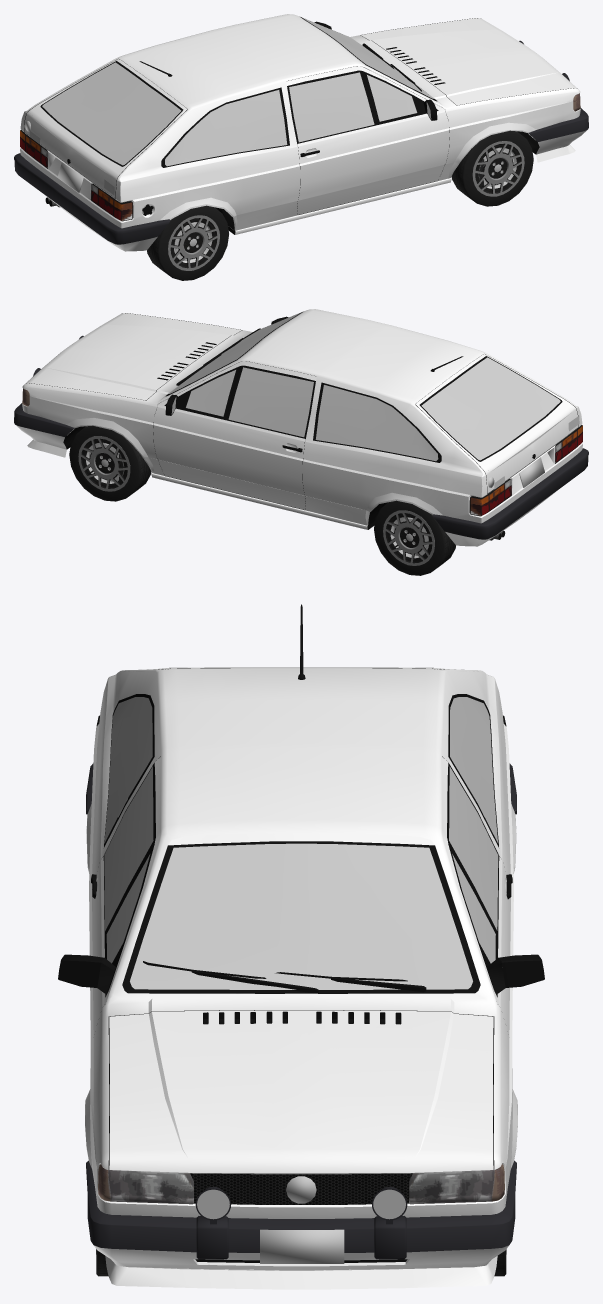
Rendered from VollRTx.dae.
The picture shows the model from 3 angles, top to bottom: view 1: azimuth 30°, elevation 25°; view 2: azimuth 150°, elevation 25°; view 3: azimuth 270°, elevation 25°; orthographic projection. The views are drawn at different scales.
Visible parts, largest first — view 1: chassis_VollRtx_Cima, hood_VollRtx, door_R_VollRtx, ad_Windows_root_VollRtx, ad_windows_chassis_VollRtx, ad_windows_R_VollRtx, P_root_VollRtx, chassis_VollRtx_Baixo, bumper_rear_VollRtx, TIRE_VollRtx_FR, RIM_VollRtx_RR, chassis_VollRtx (+9 smaller); view 2: chassis_VollRtx_Cima, hood_VollRtx, door_L_VollRtx, ad_Windows_root_VollRtx, ad_windows_chassis_VollRtx, ad_windows_L_VollRtx, P_root_VollRtx, chassis_VollRtx_Baixo, bumper_rear_VollRtx, TIRE_VollRtx_FL, RIM_VollRtx_RL, RIM_VollRtx_FL (+9 smaller); view 3: chassis_VollRtx_Cima, hood_VollRtx, ad_windows_chassis_VollRtx, chassis_VollRtx, bumper_front_VollRtx, Extra_bumper, chassis_VollRtx_Baixo, ad_windows_R_VollRtx, ad_windows_L_VollRtx, V_Farol_L_VollRtx, V_Farol_R_VollRtx, licence_front_VollRtx (+9 smaller).
Part boxes in pixels (<box>): chassis_VollRtx_Cima: <box>20,14,580,228</box>; hood_VollRtx: <box>361,18,578,105</box>; door_R_VollRtx: <box>286,66,449,200</box>; ad_Windows_root_VollRtx: <box>42,62,181,165</box>; ad_windows_chassis_VollRtx: <box>165,18,434,166</box>; ad_windows_R_VollRtx: <box>289,72,417,142</box>; P_root_VollRtx: <box>24,59,187,198</box>; chassis_VollRtx_Baixo: <box>37,130,586,251</box>; bumper_rear_VollRtx: <box>14,153,170,244</box>; TIRE_VollRtx_FR: <box>451,130,533,206</box>; RIM_VollRtx_RR: <box>168,215,219,270</box>; chassis_VollRtx: <box>20,17,577,234</box>; chassis_VollRtx_Cima: <box>22,309,582,523</box>; hood_VollRtx: <box>24,313,241,400</box>; door_L_VollRtx: <box>153,361,316,495</box>; ad_Windows_root_VollRtx: <box>421,357,560,460</box>; ad_windows_chassis_VollRtx: <box>168,313,438,461</box>; ad_windows_L_VollRtx: <box>186,367,313,437</box>; P_root_VollRtx: <box>415,354,578,493</box>; chassis_VollRtx_Baixo: <box>16,425,566,546</box>; bumper_rear_VollRtx: <box>432,448,588,539</box>; TIRE_VollRtx_FL: <box>69,425,151,501</box>; RIM_VollRtx_RL: <box>383,510,434,565</box>; RIM_VollRtx_FL: <box>78,436,130,491</box>; chassis_VollRtx_Cima: <box>85,668,517,1218</box>; hood_VollRtx: <box>109,1010,493,1173</box>; ad_windows_chassis_VollRtx: <box>104,697,497,989</box>; chassis_VollRtx: <box>96,668,506,1262</box>; bumper_front_VollRtx: <box>86,1160,516,1252</box>; Extra_bumper: <box>105,1256,497,1289</box>; chassis_VollRtx_Baixo: <box>94,1245,508,1270</box>; ad_windows_R_VollRtx: <box>104,766,153,963</box>; ad_windows_L_VollRtx: <box>449,766,498,963</box>; V_Farol_L_VollRtx: <box>409,1164,504,1204</box>; V_Farol_R_VollRtx: <box>98,1164,193,1204</box>; licence_front_VollRtx: <box>260,1229,344,1263</box>.
Size of what is drawn, in the model's own units: 5.15 by 2.24 by 1.85.
